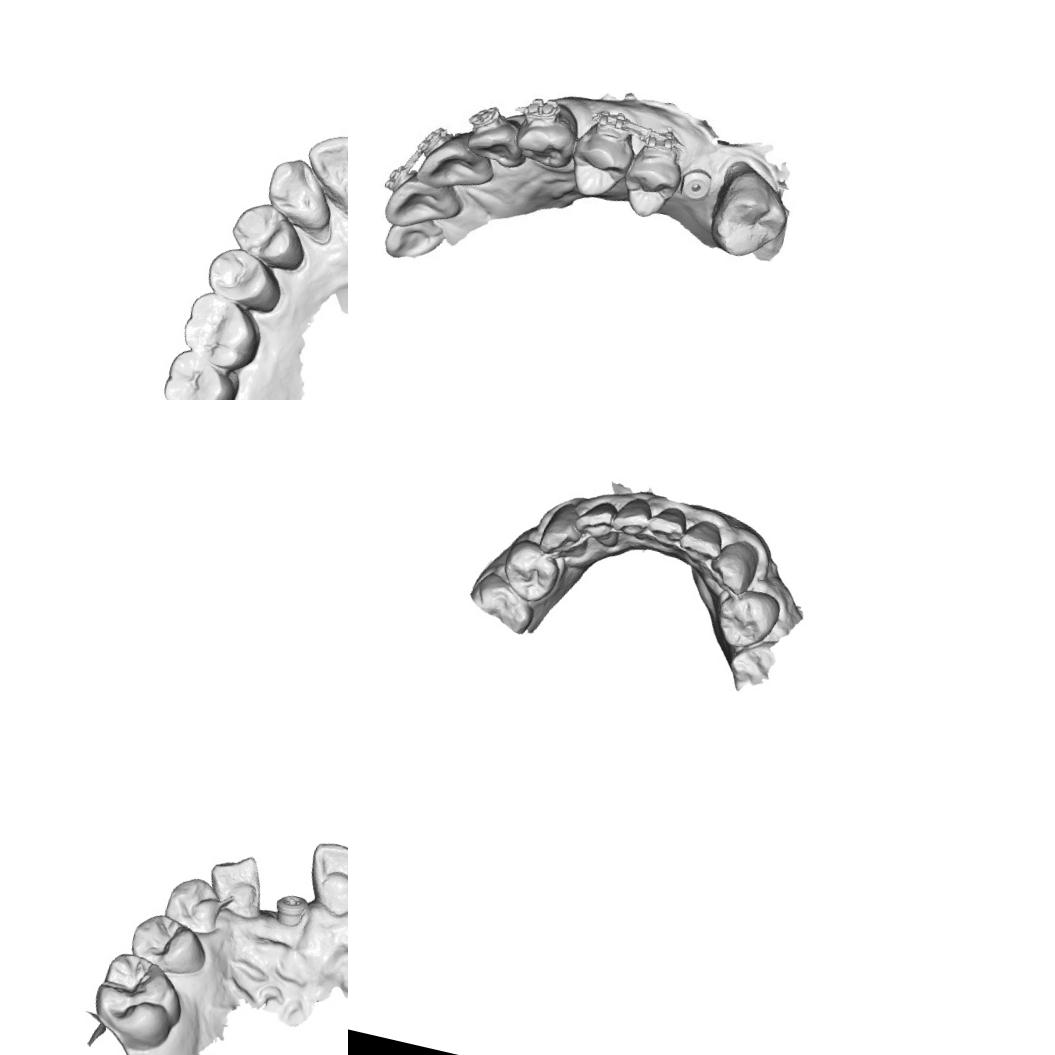canine: (258, 151, 344, 234), (199, 846, 270, 923), (511, 108, 584, 176), (706, 532, 766, 600), (537, 497, 597, 563)
implant: (678, 161, 716, 207), (270, 888, 310, 928)
incisor: (413, 128, 500, 199), (382, 174, 470, 243), (461, 114, 533, 179), (378, 210, 448, 270), (299, 838, 348, 923), (298, 125, 348, 202), (572, 497, 625, 551), (674, 512, 725, 568), (609, 489, 655, 543), (646, 501, 691, 552)
molar: (88, 948, 192, 1055), (700, 158, 797, 268), (176, 287, 268, 374), (155, 346, 244, 400)
premolar: (222, 194, 314, 273), (614, 133, 688, 225), (200, 243, 290, 316), (563, 112, 635, 202), (124, 906, 208, 980), (708, 581, 786, 657), (492, 536, 566, 608), (158, 871, 229, 939)
